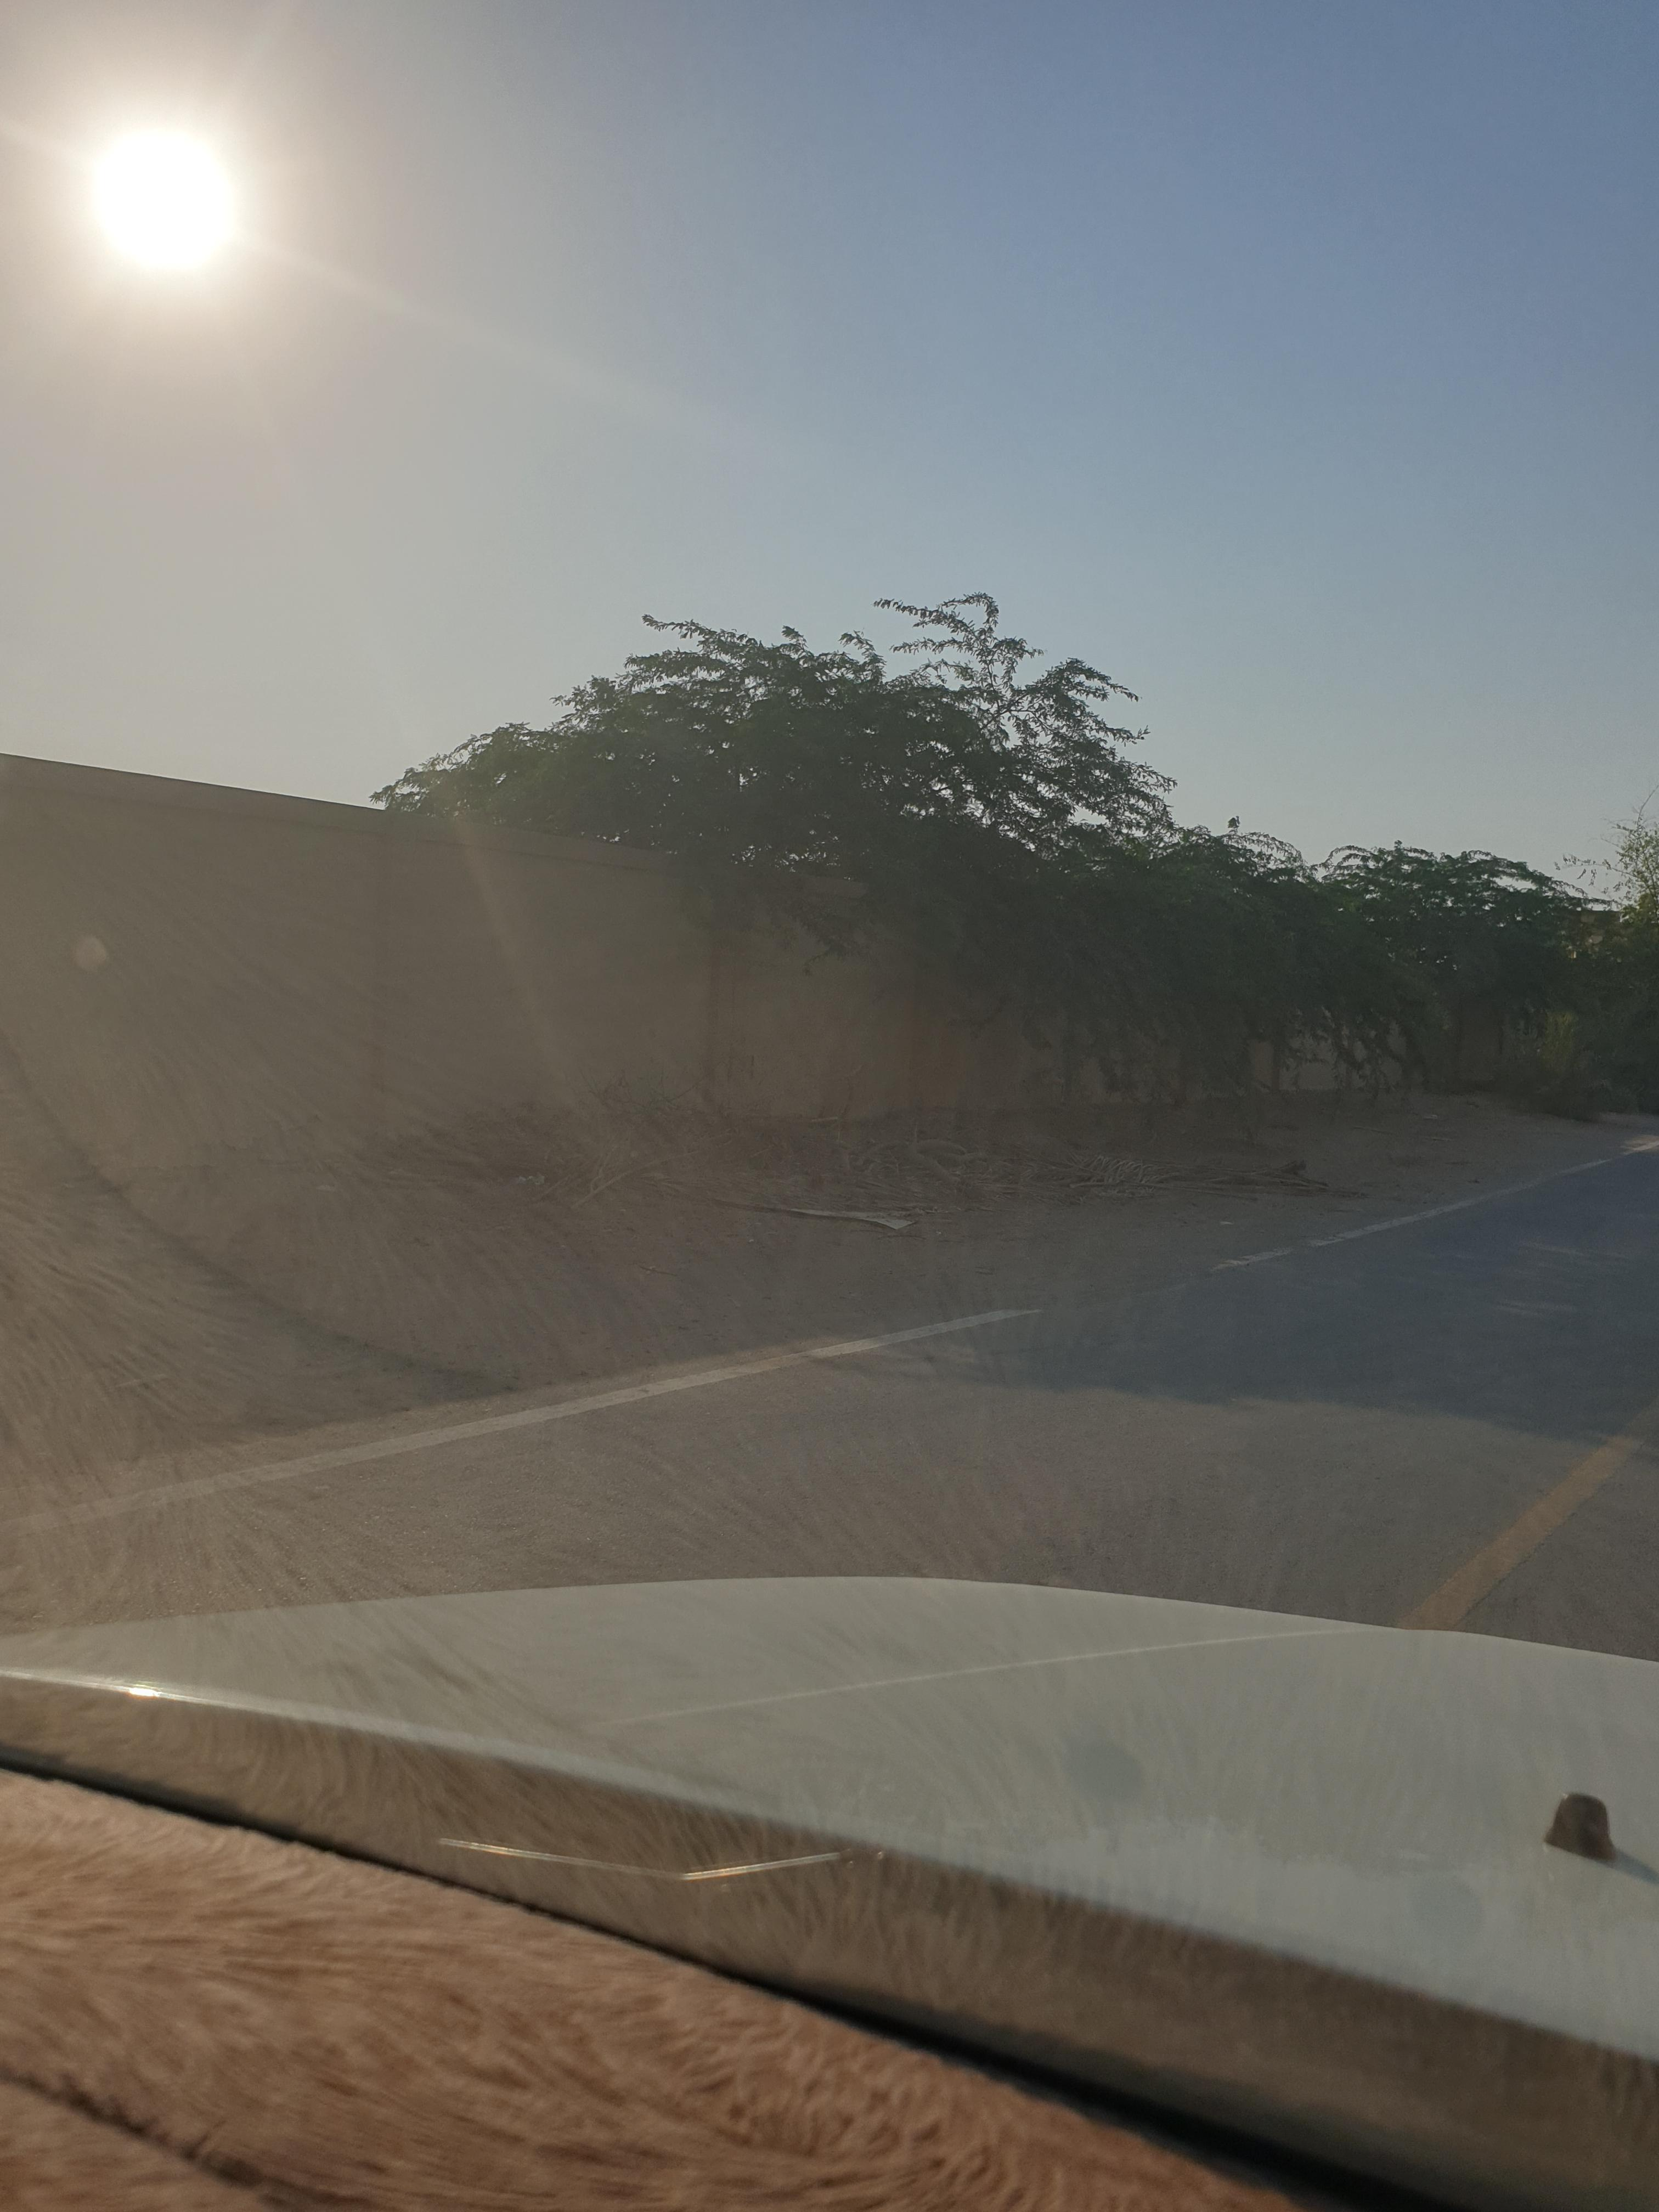fallen_trees: (838, 1122, 1234, 1209)
